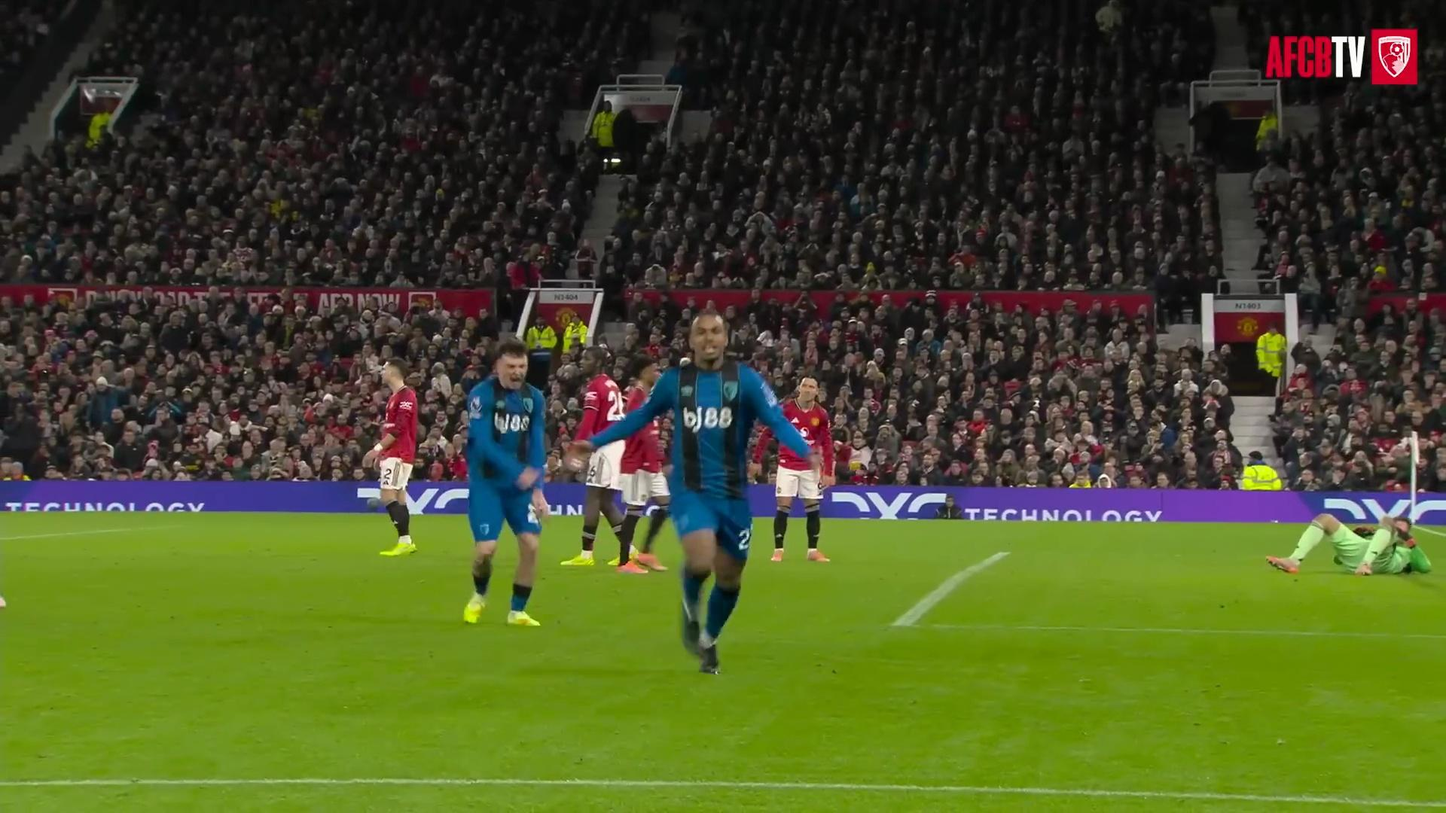player: (569, 313, 817, 673), (464, 339, 548, 626), (772, 377, 834, 562), (364, 359, 418, 556), (562, 440, 641, 571), (1268, 513, 1430, 574), (622, 421, 669, 571), (0, 596, 5, 607)
